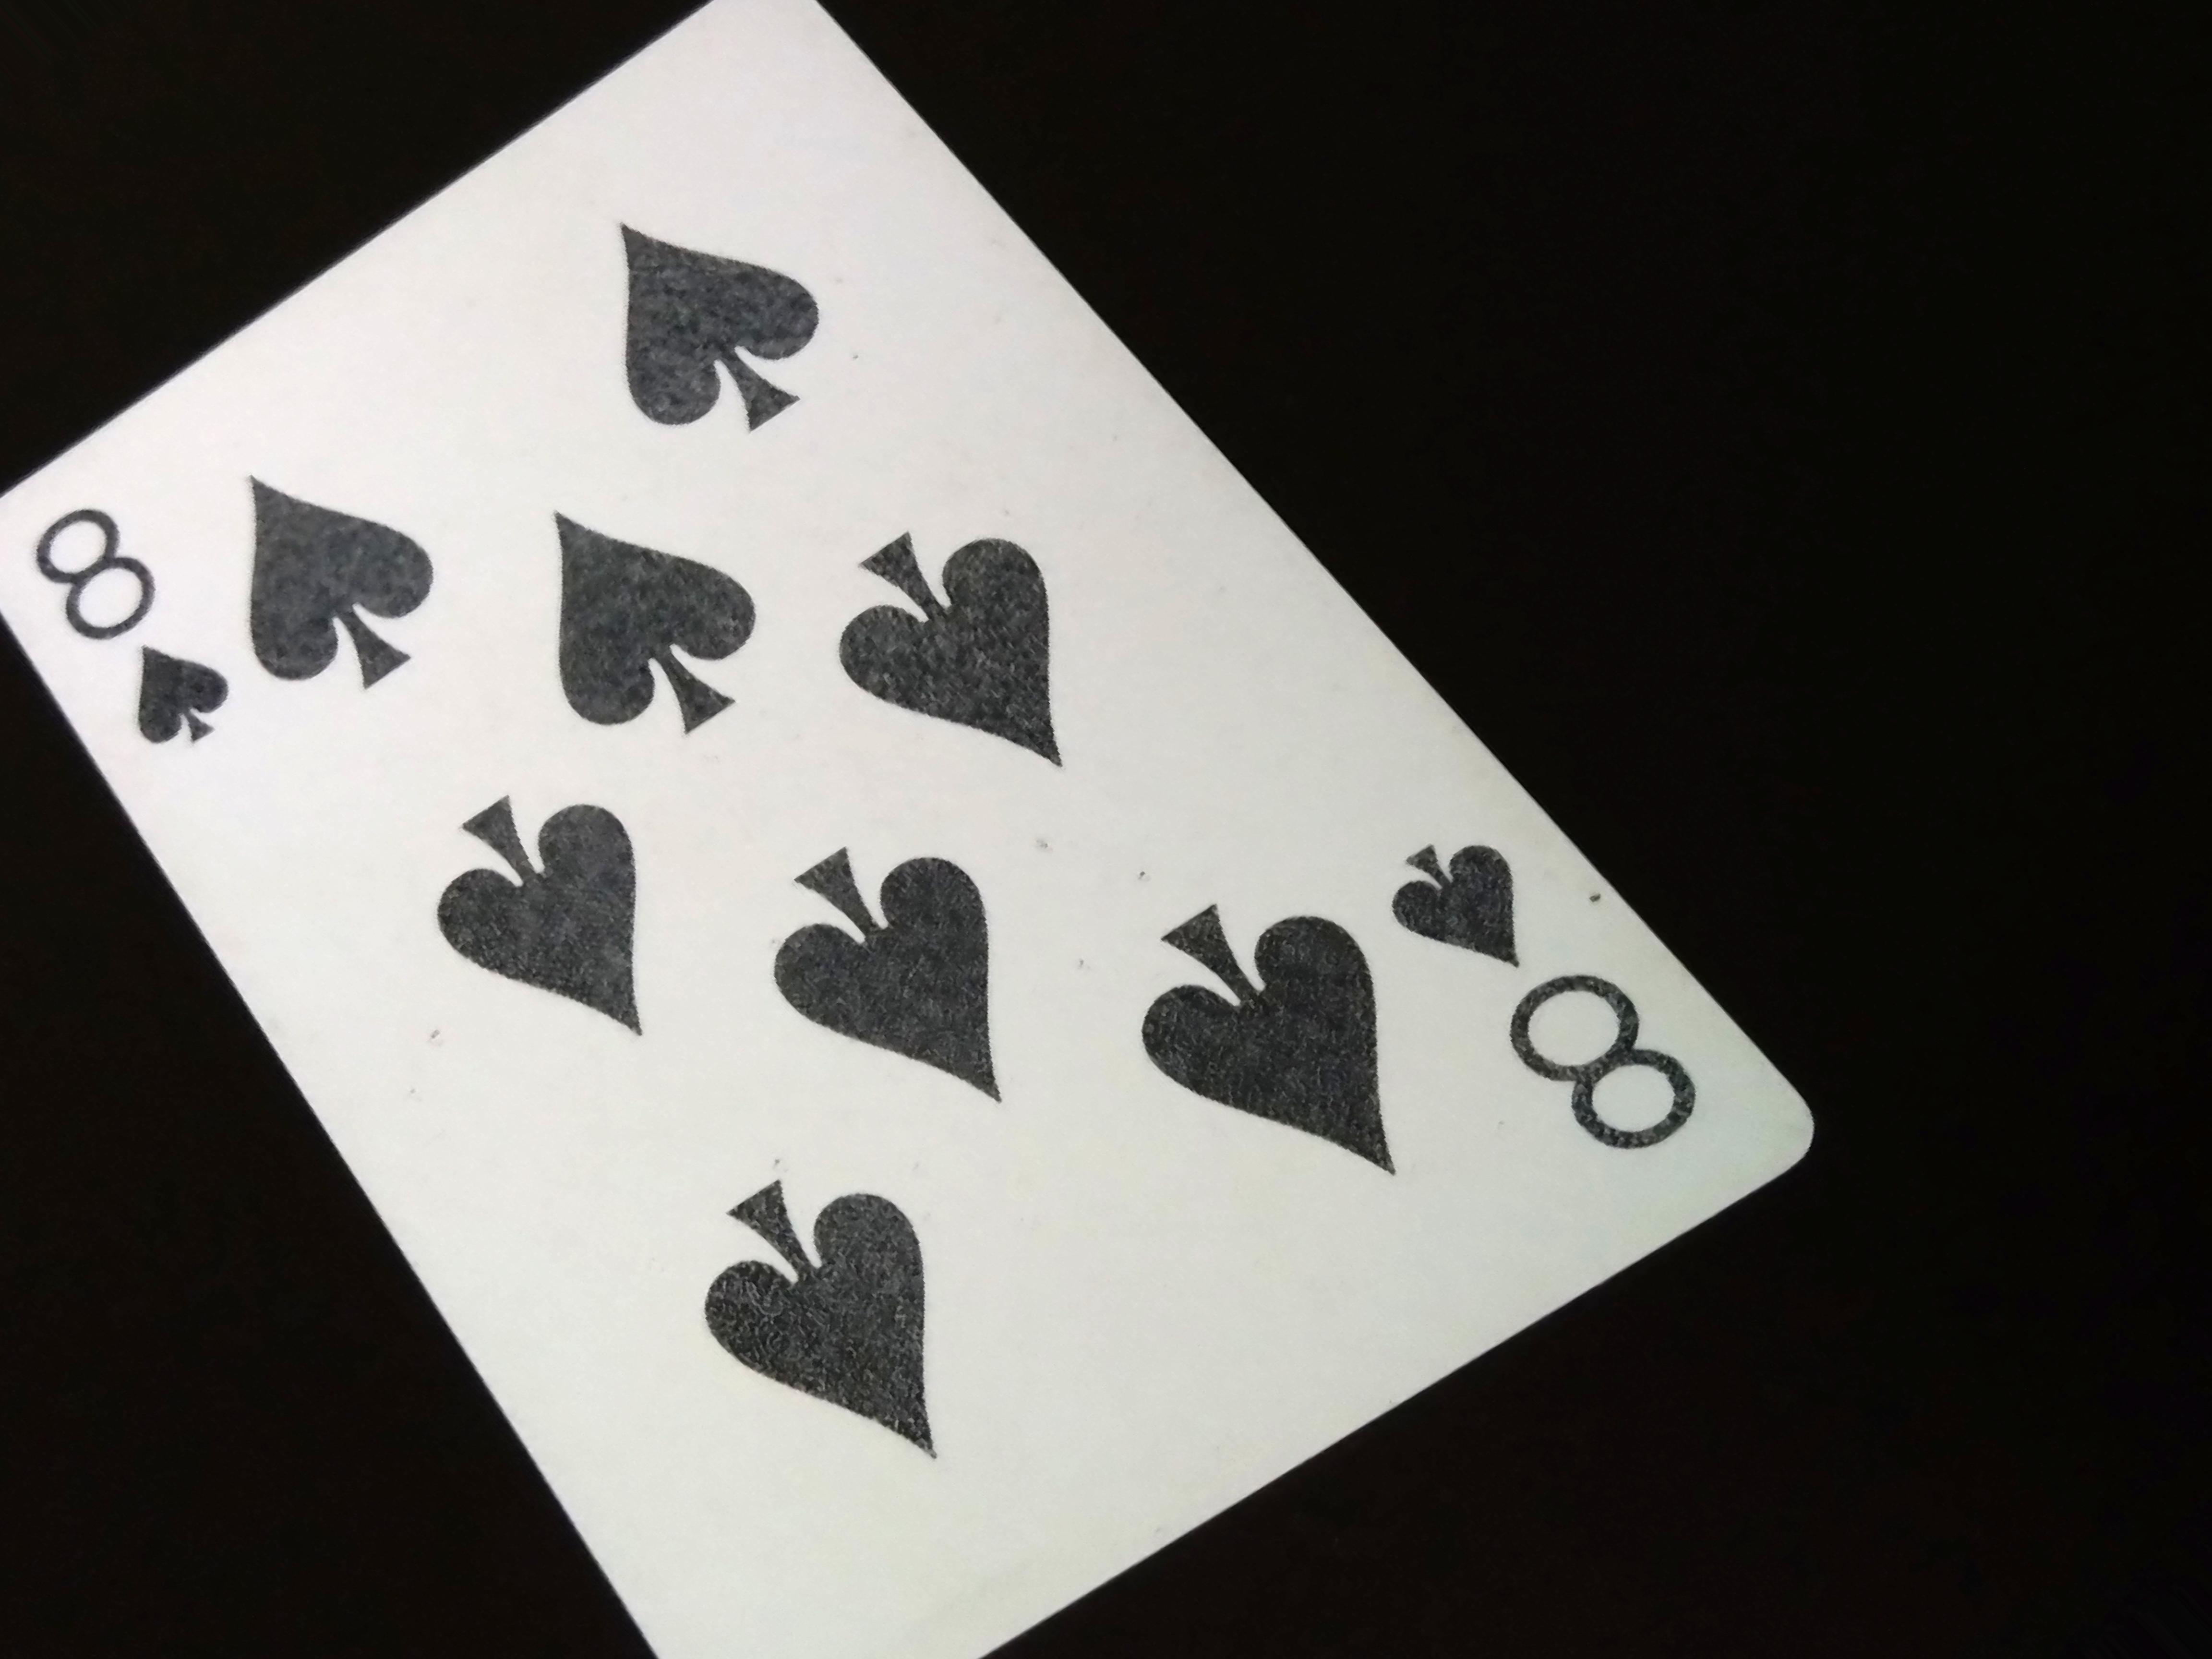8S: (21, 500, 284, 803)
